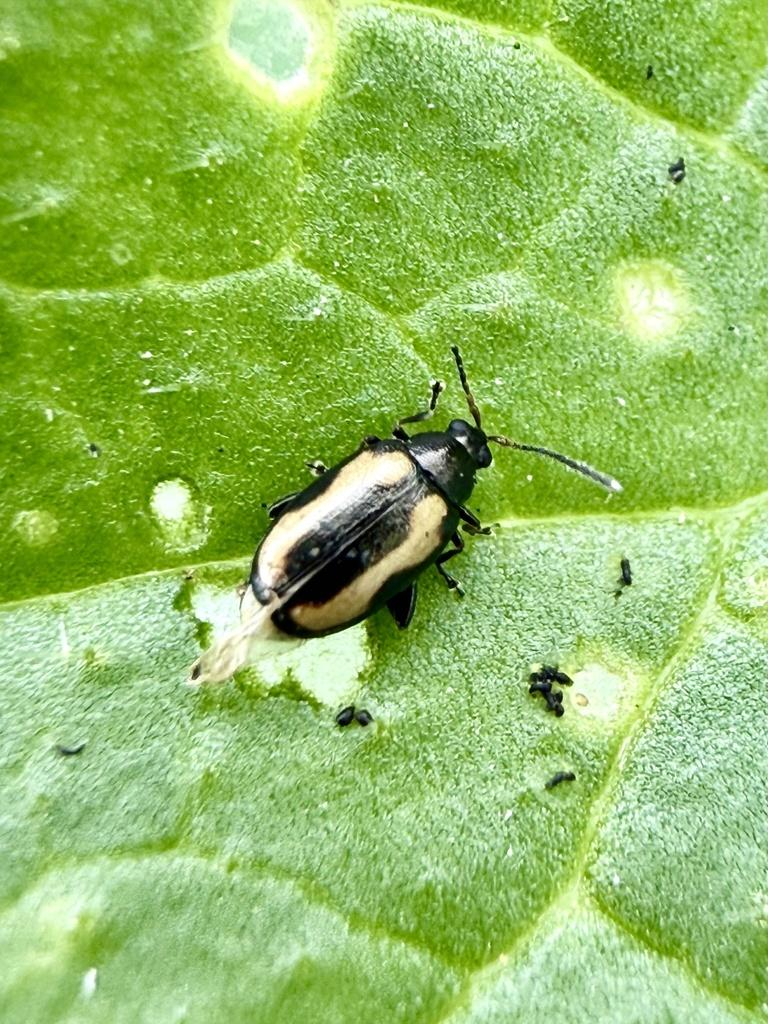flea_beetle: (184, 315, 646, 704)
